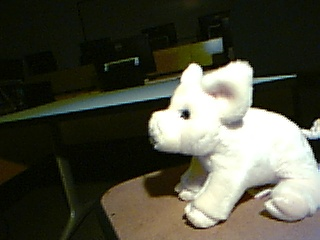piggy: (146, 58, 320, 232)
